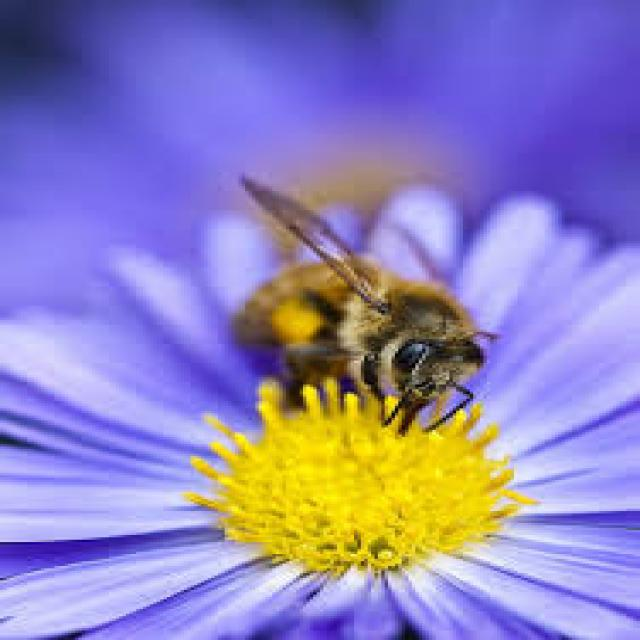Bees: (227, 176, 500, 438)
